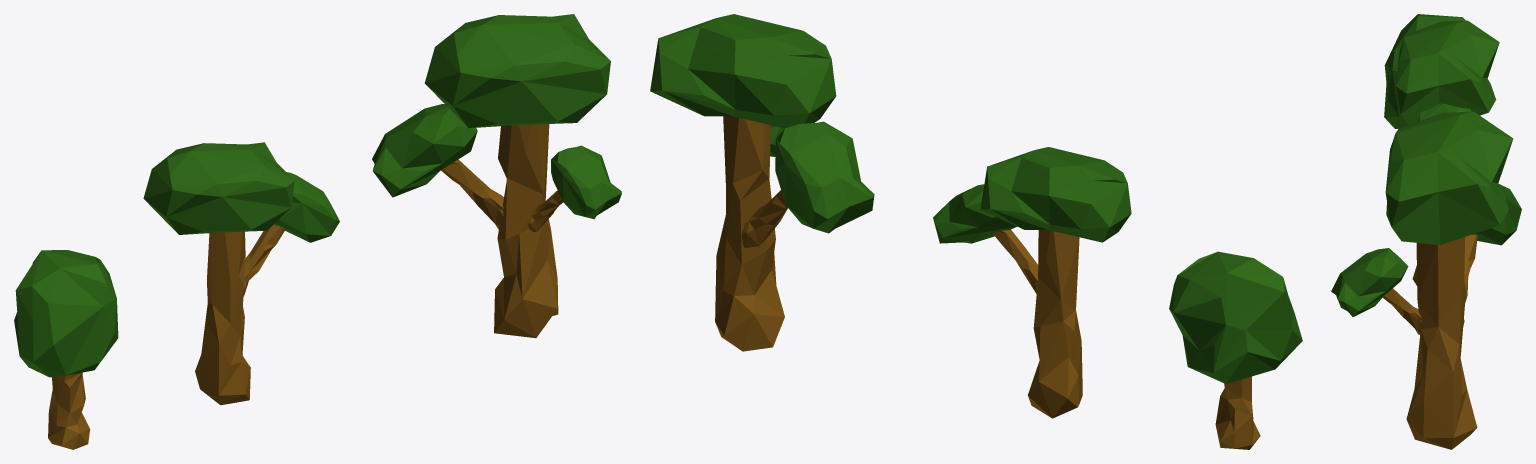
Rendered from trees2.fbx.
The picture shows the model from 3 angles, left to right: view 1: azimuth 30°, elevation 25°; view 2: azimuth 150°, elevation 25°; view 3: azimuth 270°, elevation 25°; orthographic projection. The views are drawn at different scales.
Parts seen in each view (by area): view 1: tree3, tree2_low, tree1; view 2: tree3, tree2_low, tree1; view 3: tree3, tree2_low, tree1.
Boxes of the visible parts, x1,y1,x2,y2 form: tree3: (372,14,621,338); tree2_low: (143,142,339,405); tree1: (14,250,118,449); tree3: (650,14,874,351); tree2_low: (933,147,1131,418); tree1: (1169,251,1302,449); tree3: (1331,111,1521,449); tree2_low: (1396,20,1499,285); tree1: (1384,14,1465,129).
Bounding box in the file's own units: 760 × 379 × 212.
